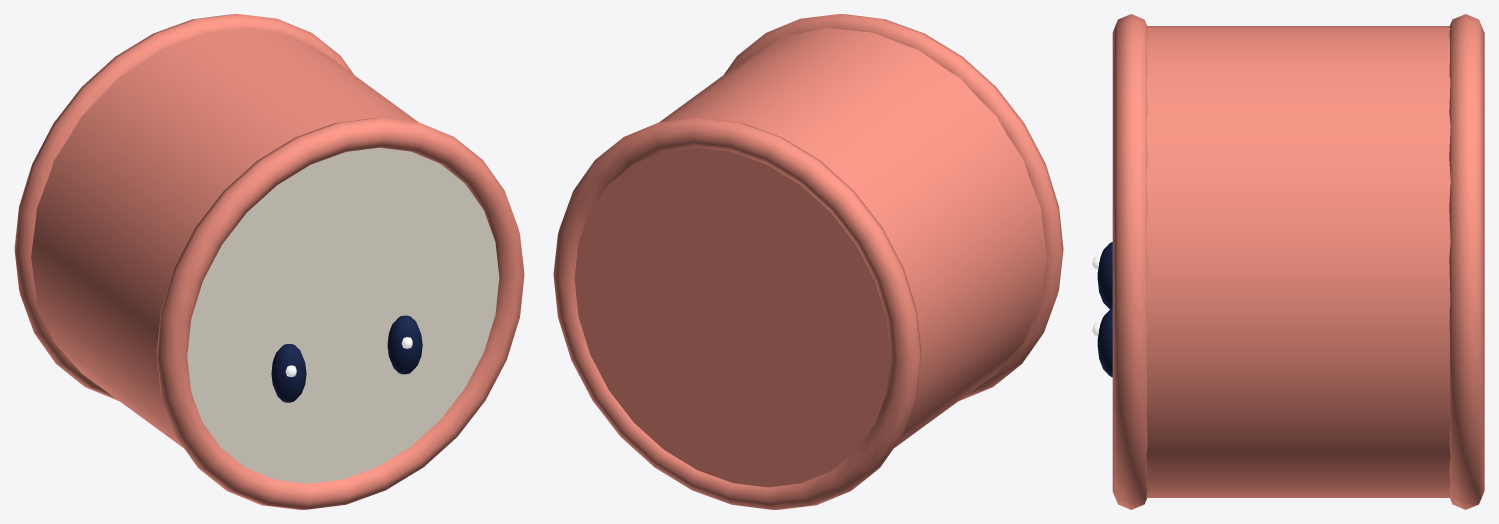
File: kick.glb
The picture shows the model from 3 angles, left to right: view 1: azimuth 30°, elevation 25°; view 2: azimuth 150°, elevation 25°; view 3: azimuth 270°, elevation 25°; orthographic projection. The views are drawn at different scales.
Visible parts, largest first — view 1: Body, Eyes; view 2: Body; view 3: Body, Eyes.
Boxes of the visible parts, bbox=[...] form: Body: bbox=[14, 14, 524, 509]; Eyes: bbox=[271, 315, 422, 402]; Body: bbox=[553, 14, 1063, 509]; Body: bbox=[1112, 14, 1484, 509]; Eyes: bbox=[1092, 242, 1112, 377].
Size of the model in its own units: 0.132 by 0.132 by 0.1043.
